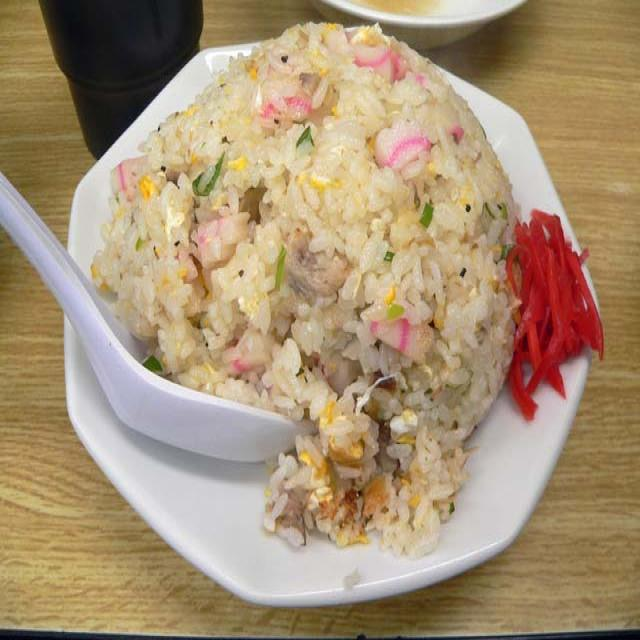米饭主食: (32, 21, 609, 611)
